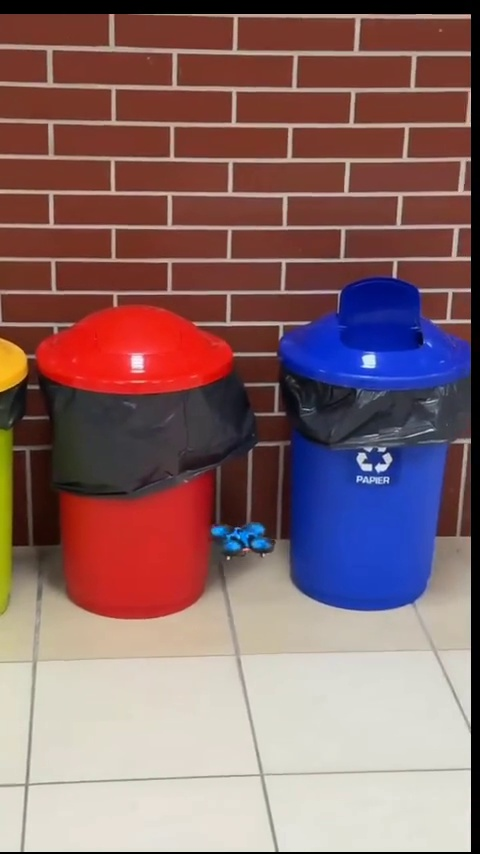drone: (210, 521, 274, 564)
